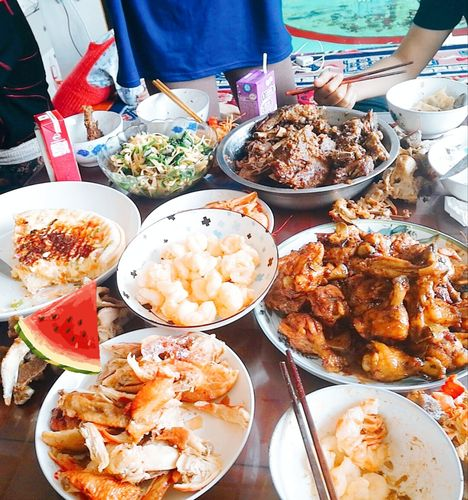food: (263, 205, 468, 382), (32, 324, 250, 487), (113, 188, 280, 332), (218, 93, 396, 207), (305, 381, 463, 494), (88, 326, 249, 417), (4, 184, 129, 299), (96, 114, 215, 197), (170, 187, 274, 235), (388, 71, 464, 136), (54, 103, 119, 166)
